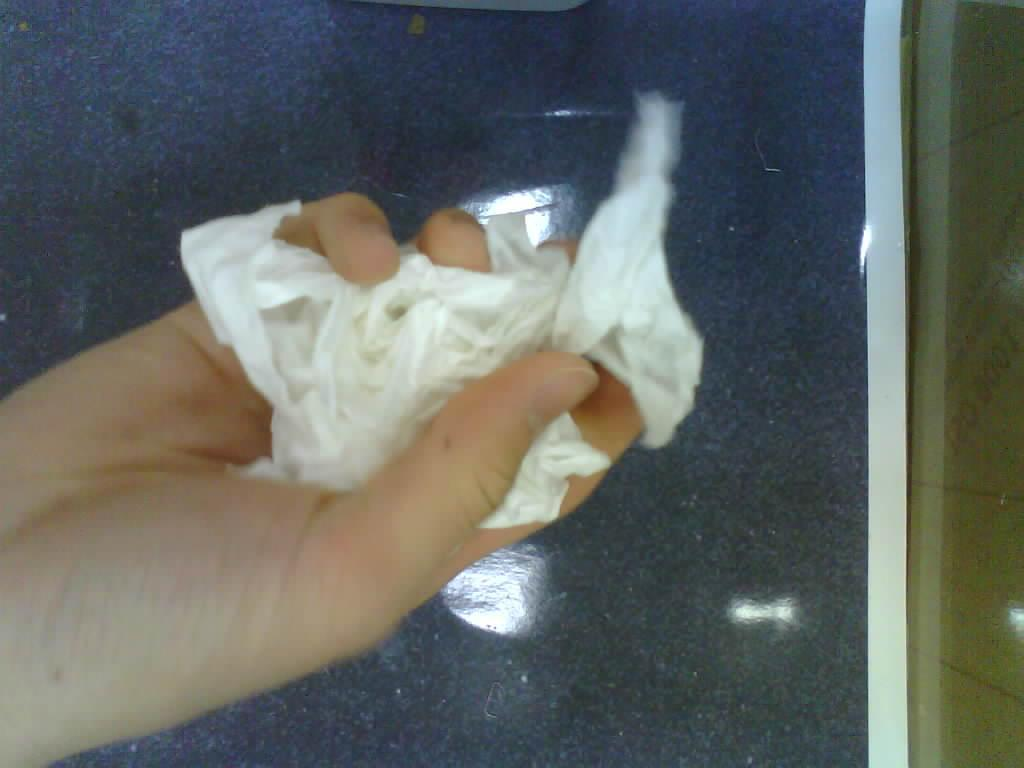paper: (185, 90, 703, 540)
